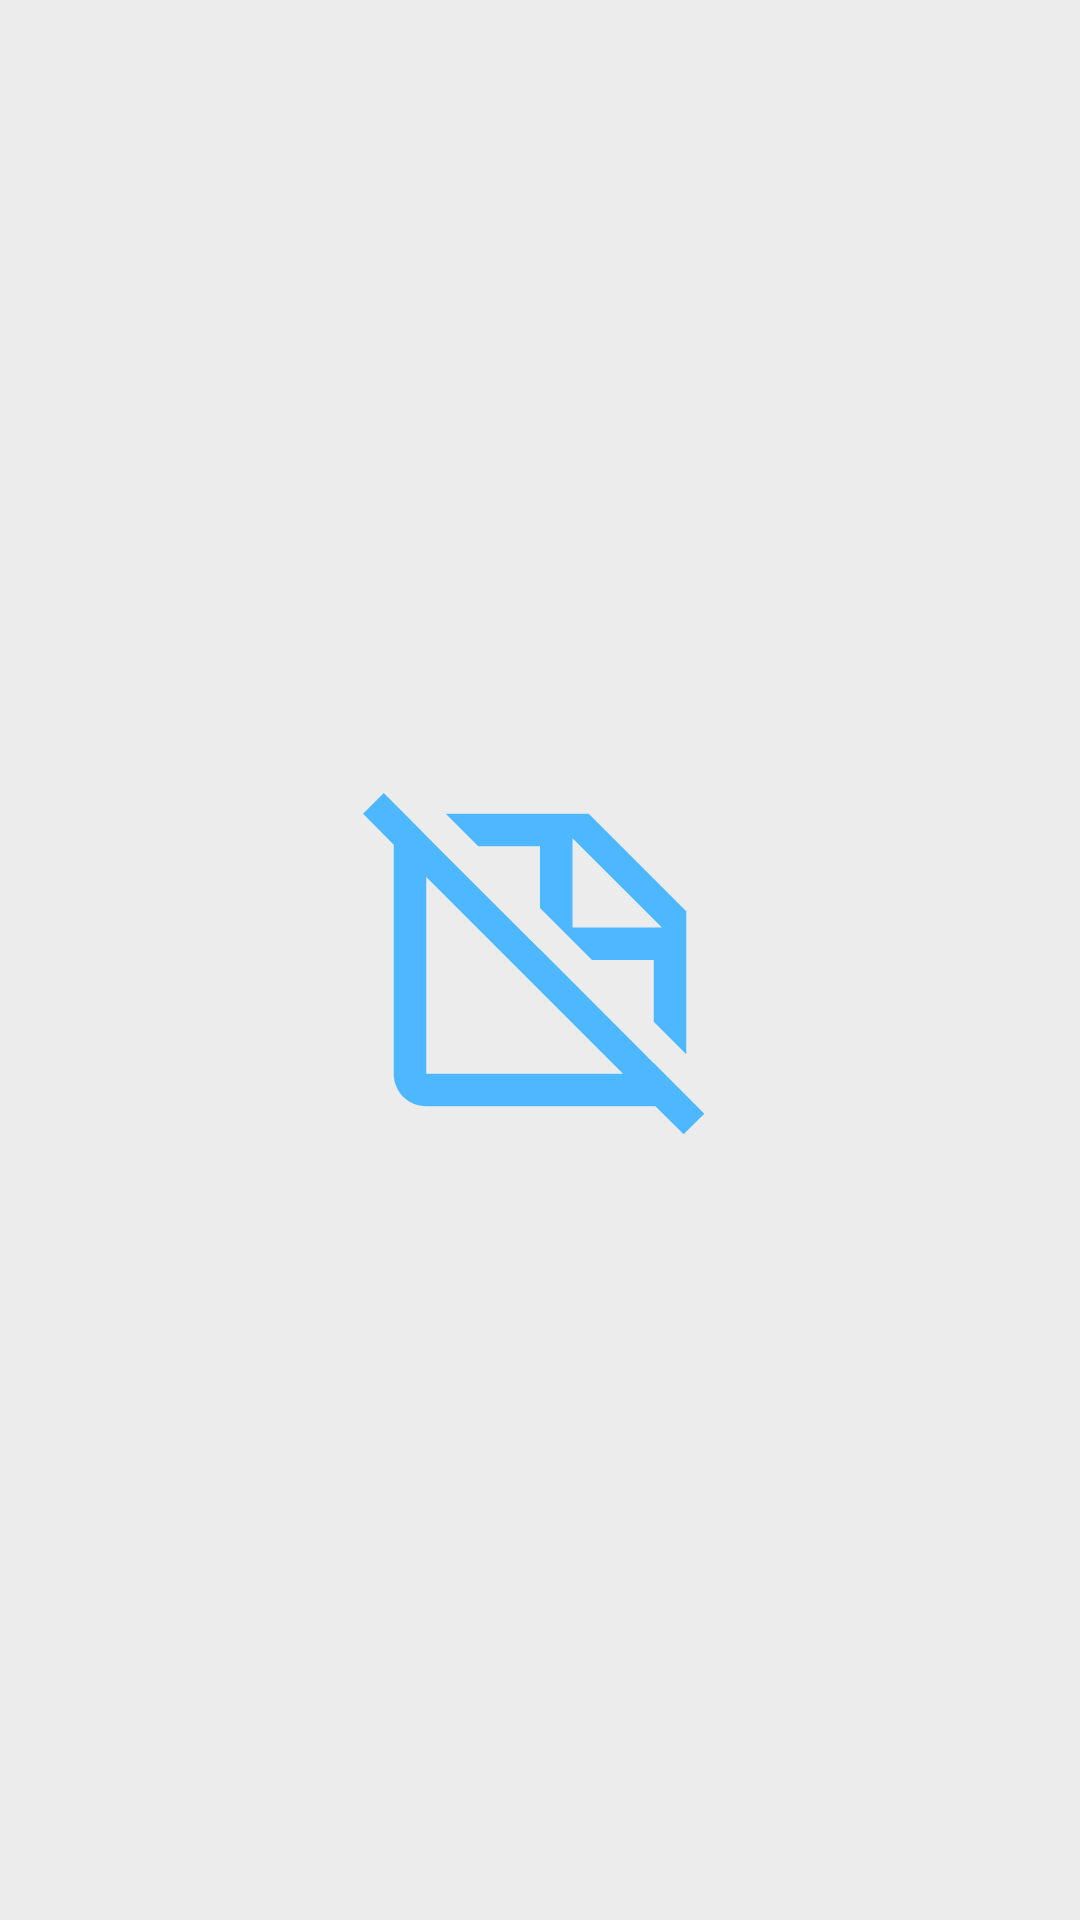

Icon bounding boxes for this 1080 × 1920 phone screenshot, format [x1,y1,x2,y2]:
resultnotavailable: [363,793,704,1134]
